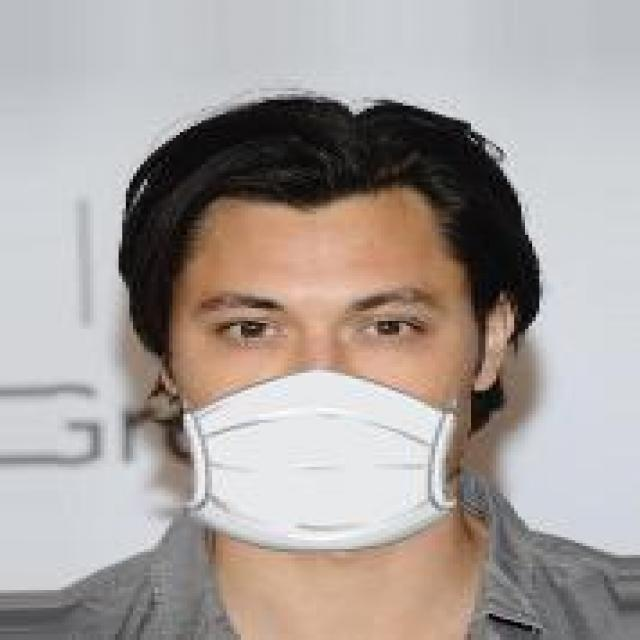mask: (64, 120, 572, 596)
